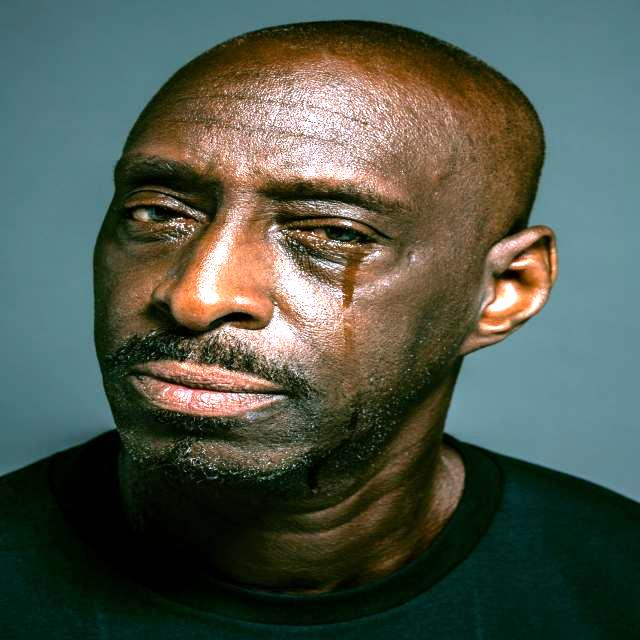no_head_wear: (124, 20, 545, 220)
person: (23, 21, 638, 640)
